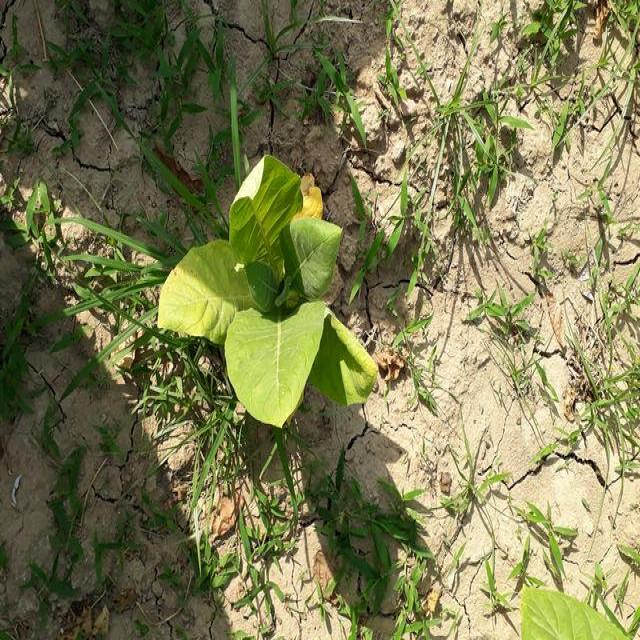crop: (158, 139, 384, 430)
